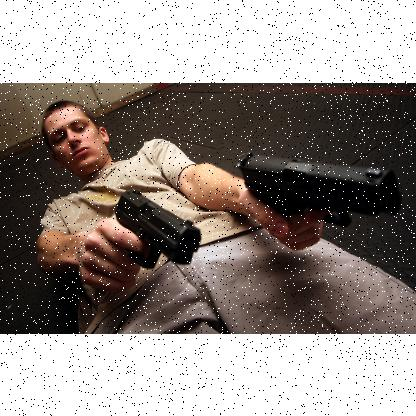gun: (235, 148, 404, 220), (114, 186, 200, 268)
